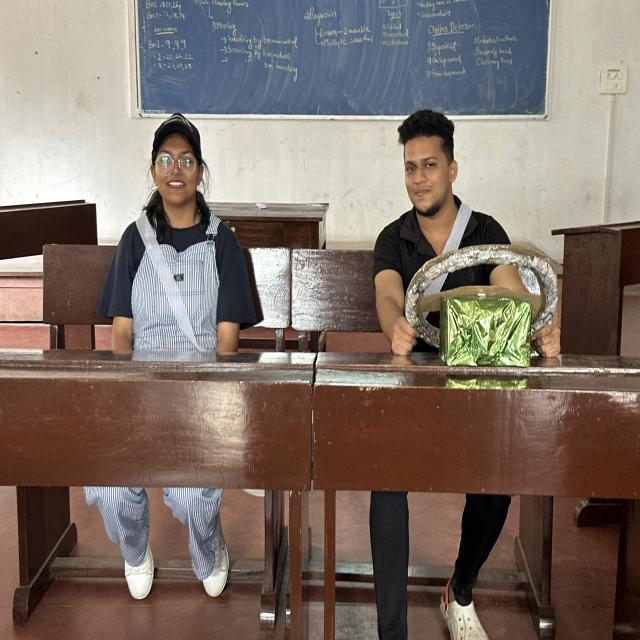seatbelt: (100, 202, 249, 361), (362, 210, 529, 349)
